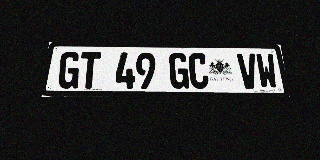4: (115, 52, 136, 89)
9: (136, 52, 155, 89)
C: (188, 53, 209, 89)
G: (57, 52, 81, 89), (169, 53, 189, 89)
T: (78, 52, 101, 89)
V: (237, 53, 259, 89)
W: (255, 54, 279, 89)
